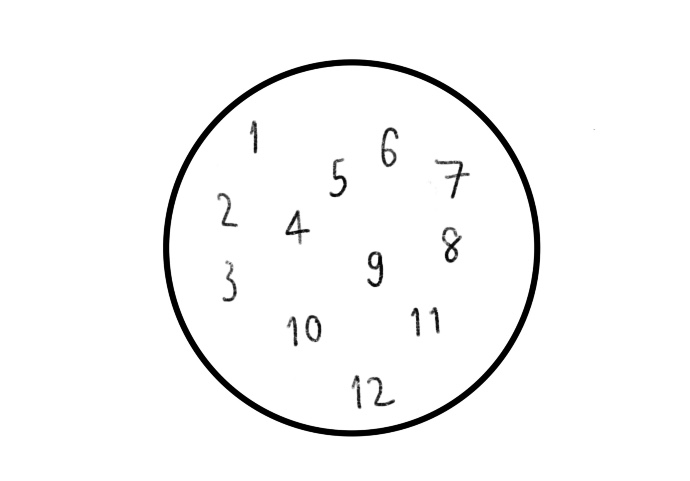eight: (435, 220, 474, 265)
eleven: (406, 306, 447, 340)
five: (328, 152, 354, 200)
four: (283, 203, 315, 247)
nine: (363, 245, 384, 293)
one: (246, 117, 261, 153)
seven: (432, 150, 471, 201)
six: (373, 119, 404, 172)
ten: (285, 308, 325, 349)
three: (216, 256, 239, 308)
twelve: (348, 373, 398, 410)
two: (215, 187, 238, 229)
